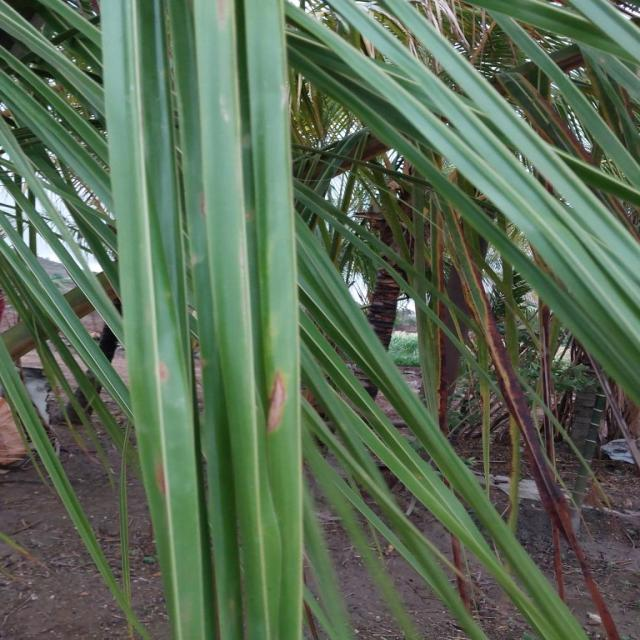gray leaf spot: (257, 372, 301, 458)
